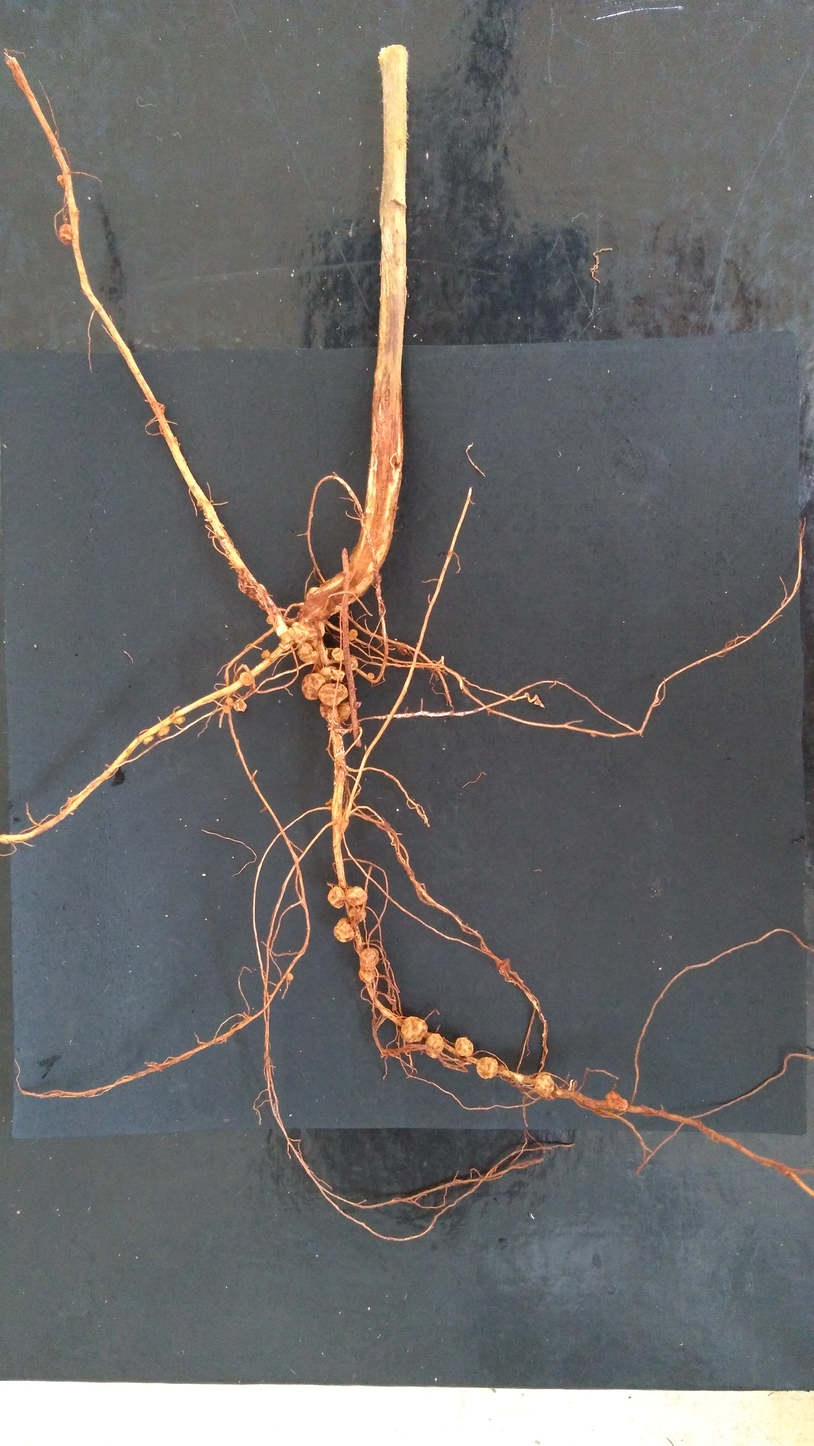nodule: (305, 587, 326, 637), (319, 700, 361, 723), (400, 1015, 428, 1043), (318, 682, 348, 706), (301, 673, 326, 701), (535, 1070, 555, 1099), (297, 641, 321, 664), (476, 1056, 499, 1080), (333, 917, 355, 942), (604, 1090, 628, 1112), (359, 946, 380, 971), (345, 885, 368, 906), (425, 1033, 444, 1058), (287, 622, 307, 645), (314, 646, 330, 674), (327, 886, 346, 909), (320, 665, 345, 682), (454, 1036, 473, 1057), (348, 905, 367, 922), (358, 966, 377, 983), (248, 583, 267, 600), (59, 223, 73, 245), (331, 647, 345, 662), (239, 671, 253, 686), (142, 730, 155, 745), (222, 697, 234, 713), (233, 700, 247, 712), (173, 712, 185, 725), (347, 657, 358, 671), (56, 174, 66, 189), (158, 725, 170, 736), (258, 598, 269, 610), (347, 629, 357, 641), (266, 616, 276, 625), (261, 649, 270, 659), (286, 972, 294, 981), (367, 672, 374, 680)
